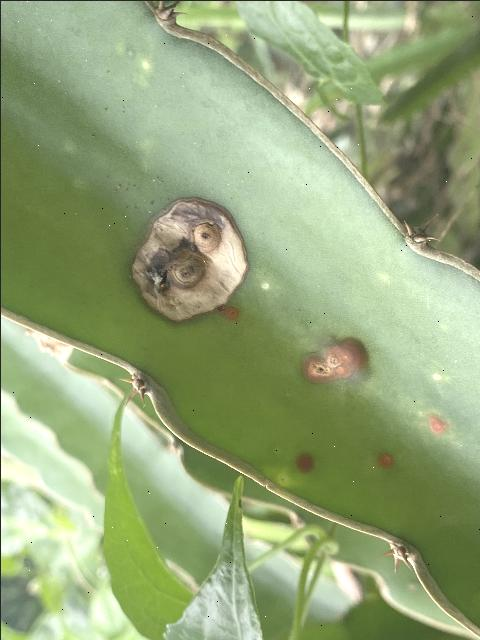stemcanker: (128, 192, 255, 328), (299, 330, 369, 390)
